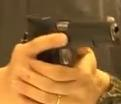gun: (1, 1, 121, 104)
